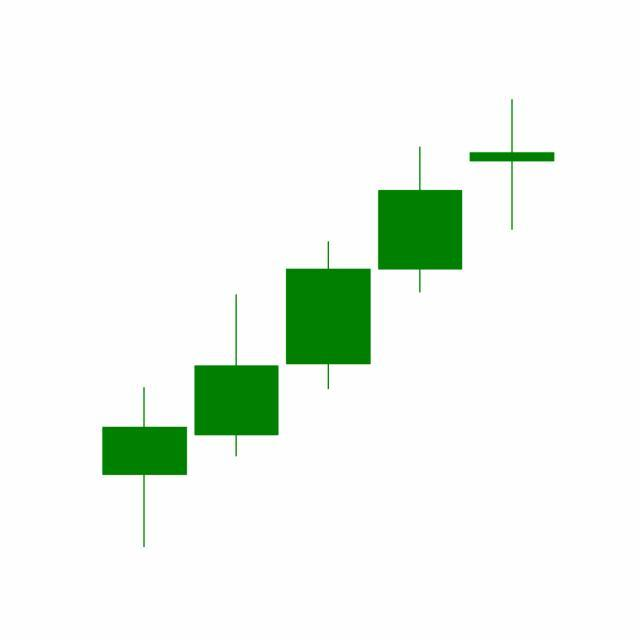Advance Block: (280, 99, 555, 394)
